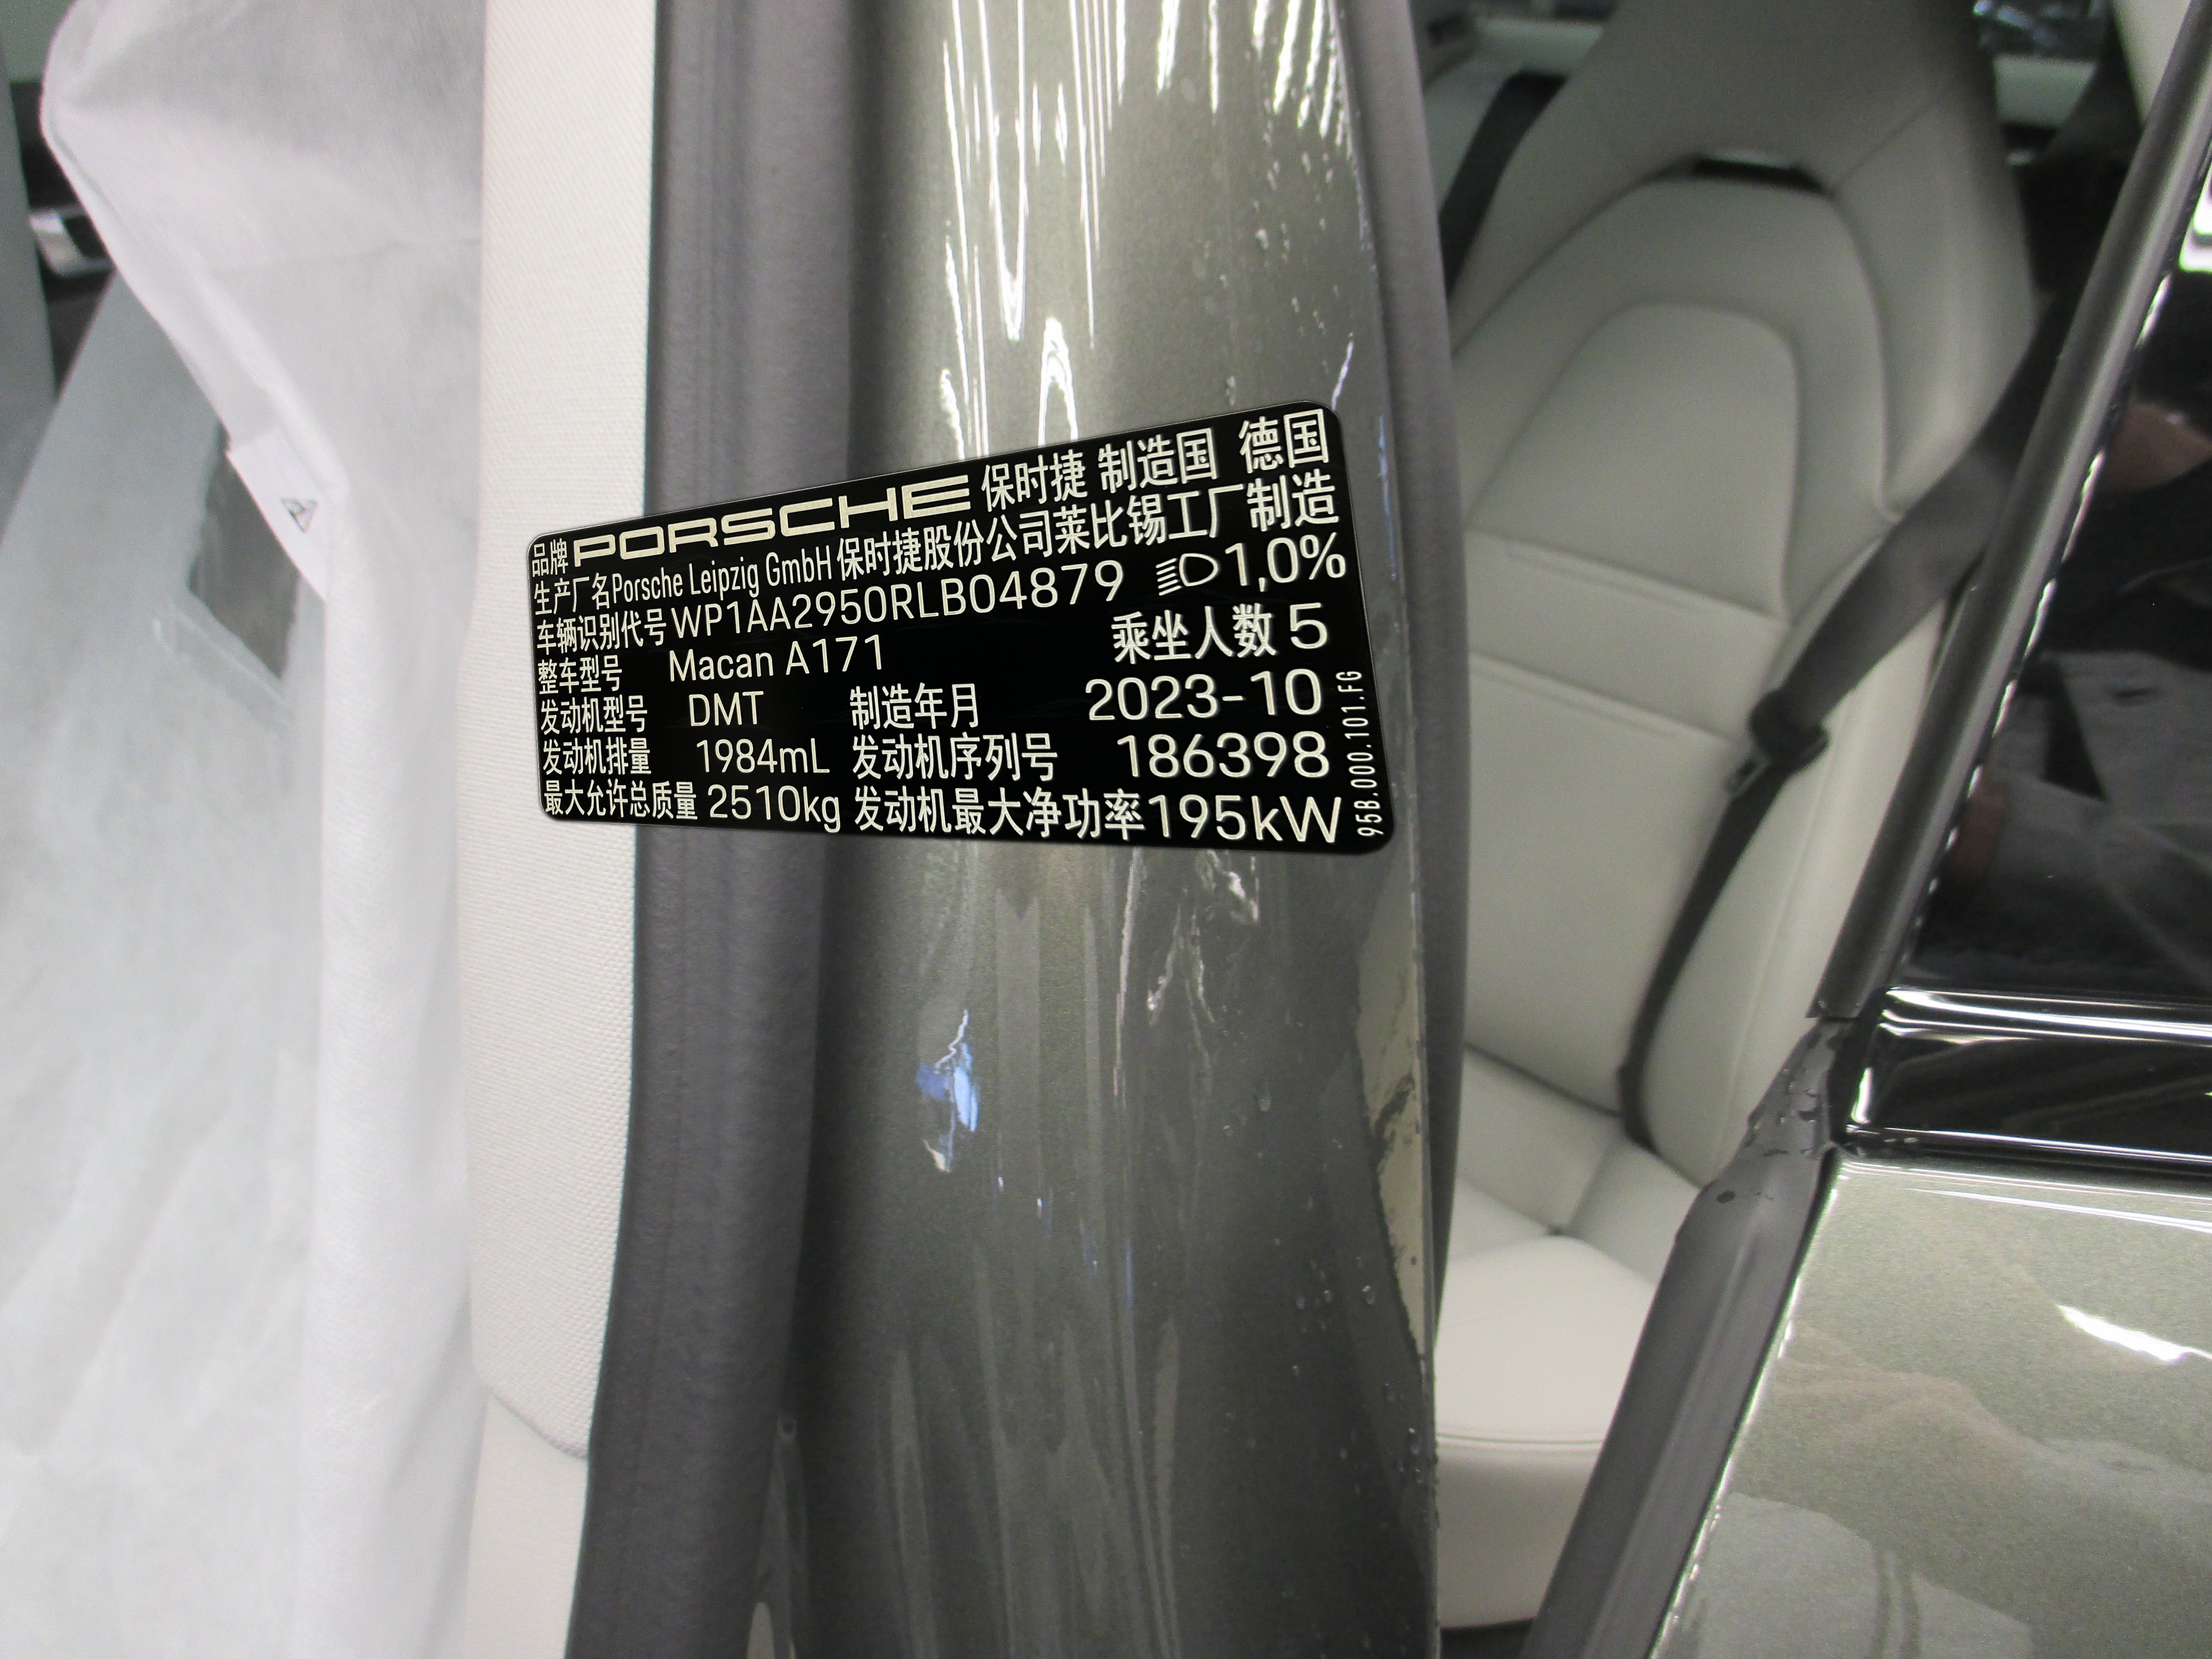Typlabel-China: (528, 401, 1395, 856)
